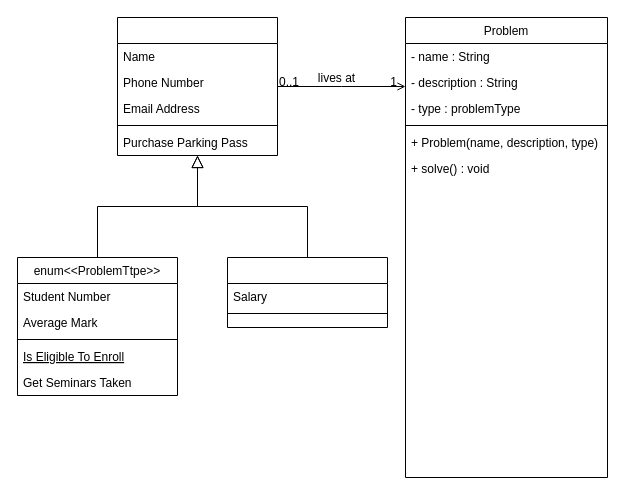
This 625x495 diagram has some shape labels left out. Here are the shapes that lost their labels. From the top down, the box of each, then its label:
(116, 16, 278, 156): Person
(226, 256, 388, 328): Professor
